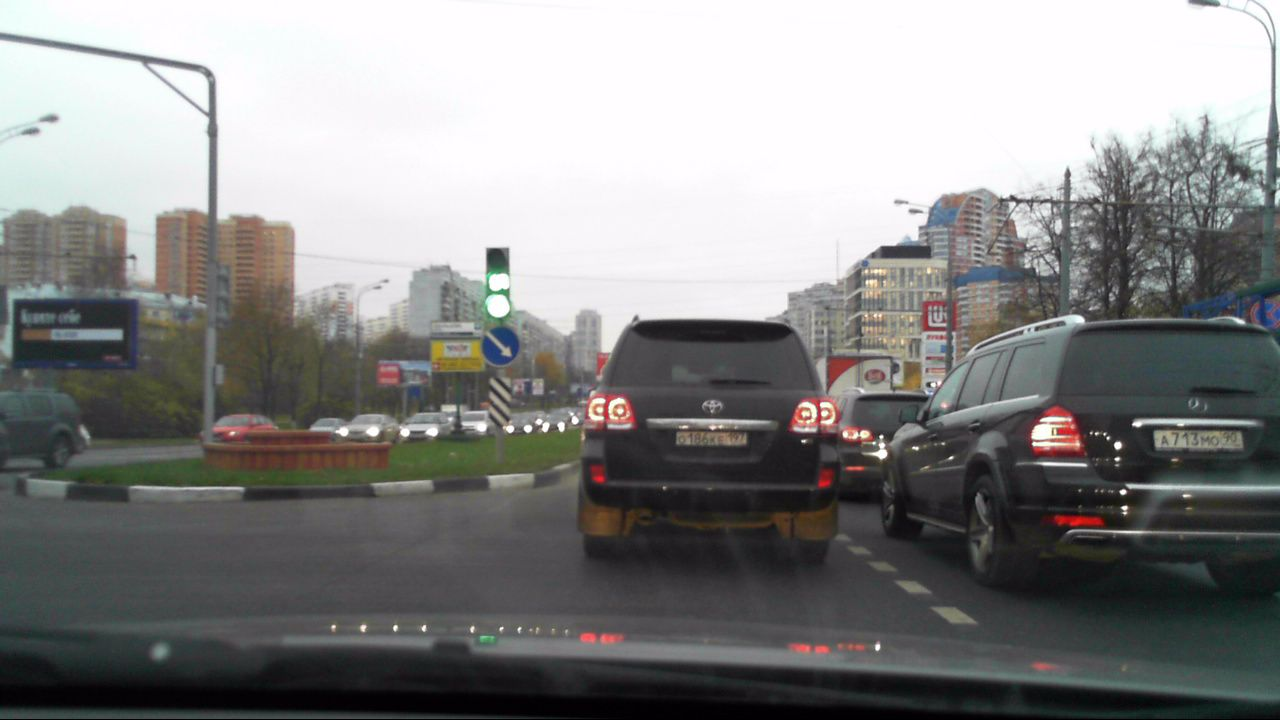No Parking: (1247, 298, 1279, 331)
